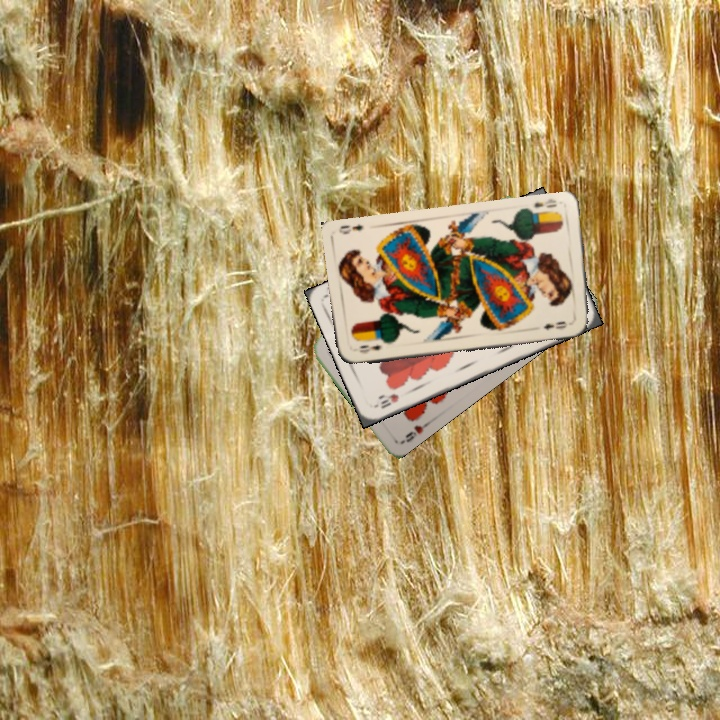EO: (355, 341, 384, 356), (530, 195, 559, 210)
H10: (377, 389, 402, 411)
H9: (397, 417, 433, 446)
